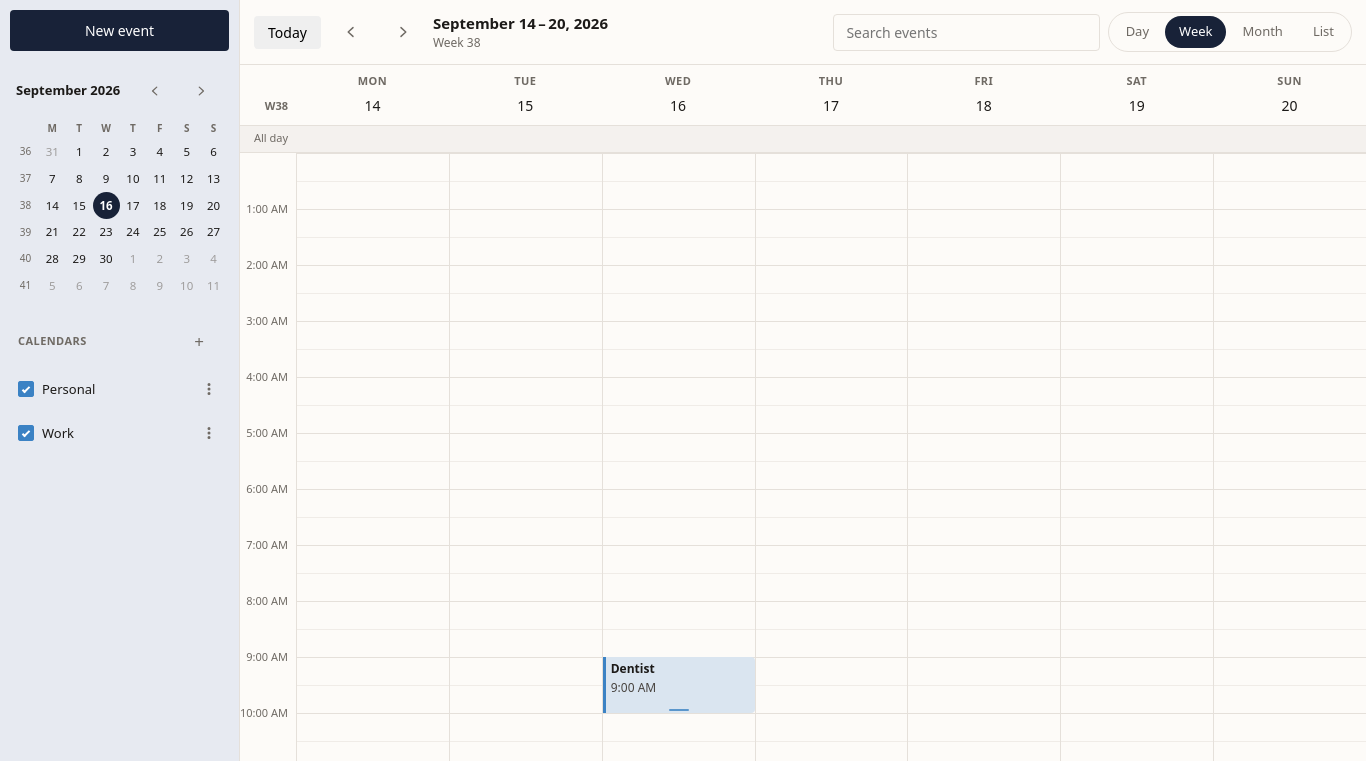
Scenario: CalendarLayout — the bubble › asks the delete scope with the worded rule, never the raw one, from the bubble
Click the button "Dentist 9:00 AM" at [679, 684], box [603,656,755,712]
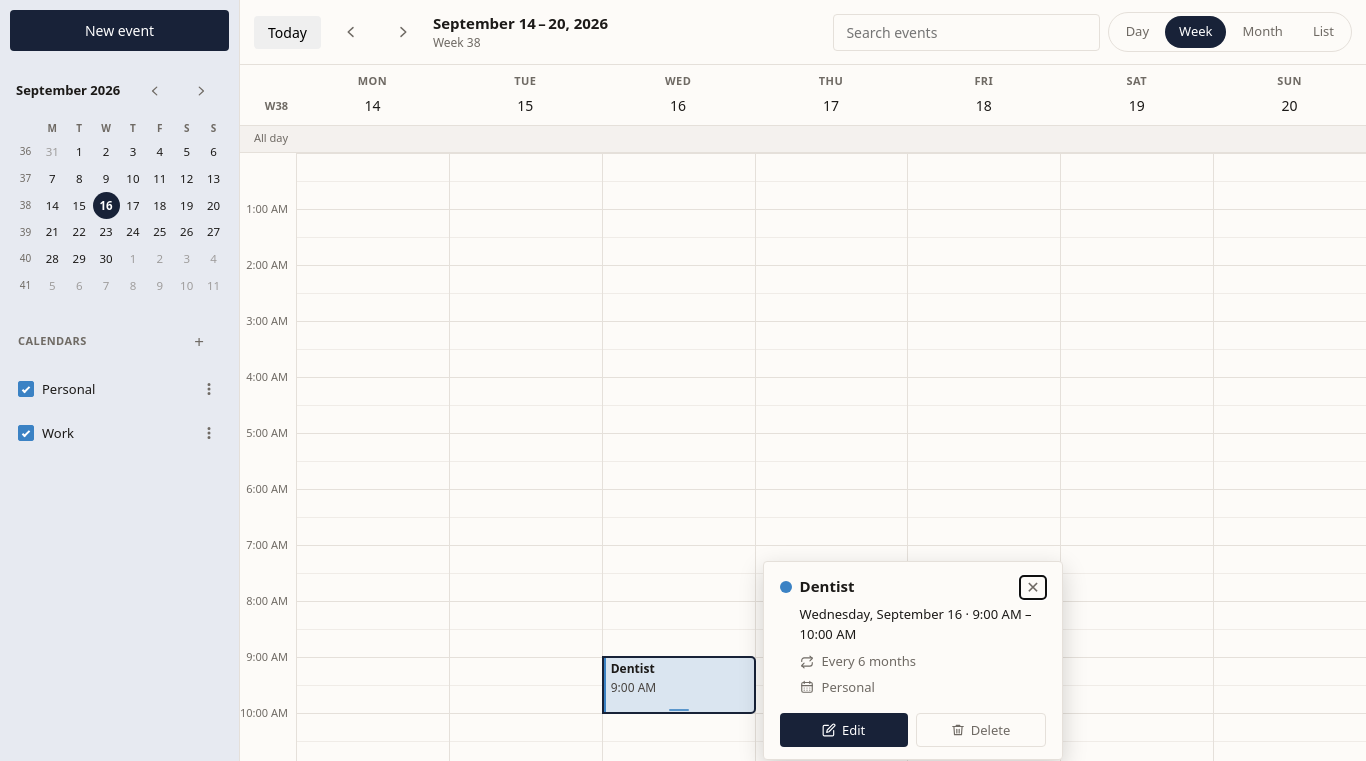
Result: the dialog "Dentist" shows "Every 6 months" at [822,652,916,670]
Click the button "Delete" at [981, 730], box [916,713,1046,747]
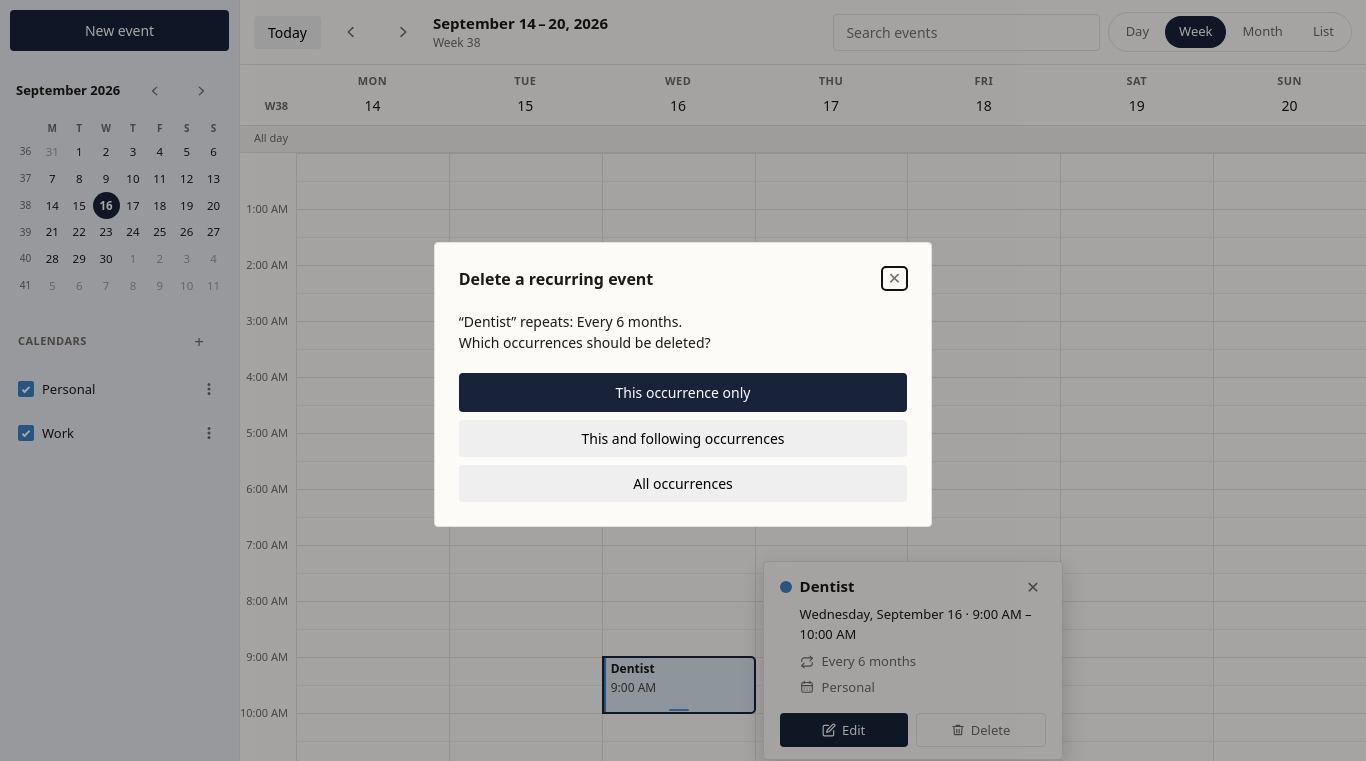
Result: the text "Delete a recurring event" is shown at [459,266,653,290]
Result: the text "repeats" shows "Every 6 months" at [459,312,711,352]
